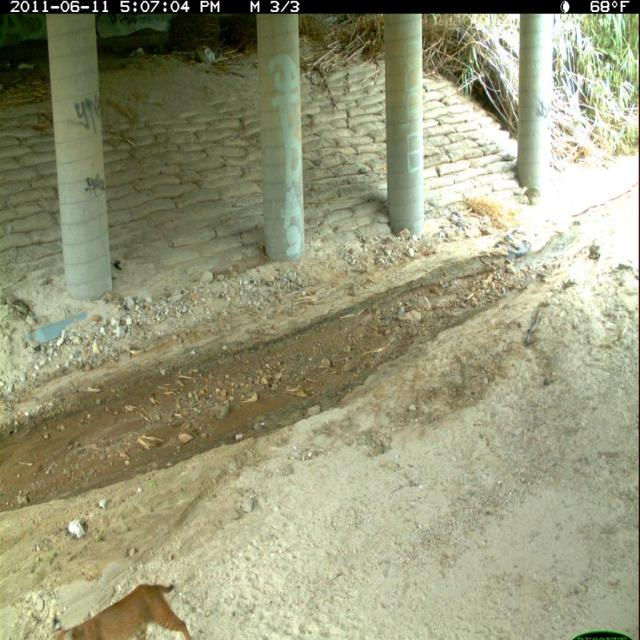bobcat: (44, 576, 192, 640)
